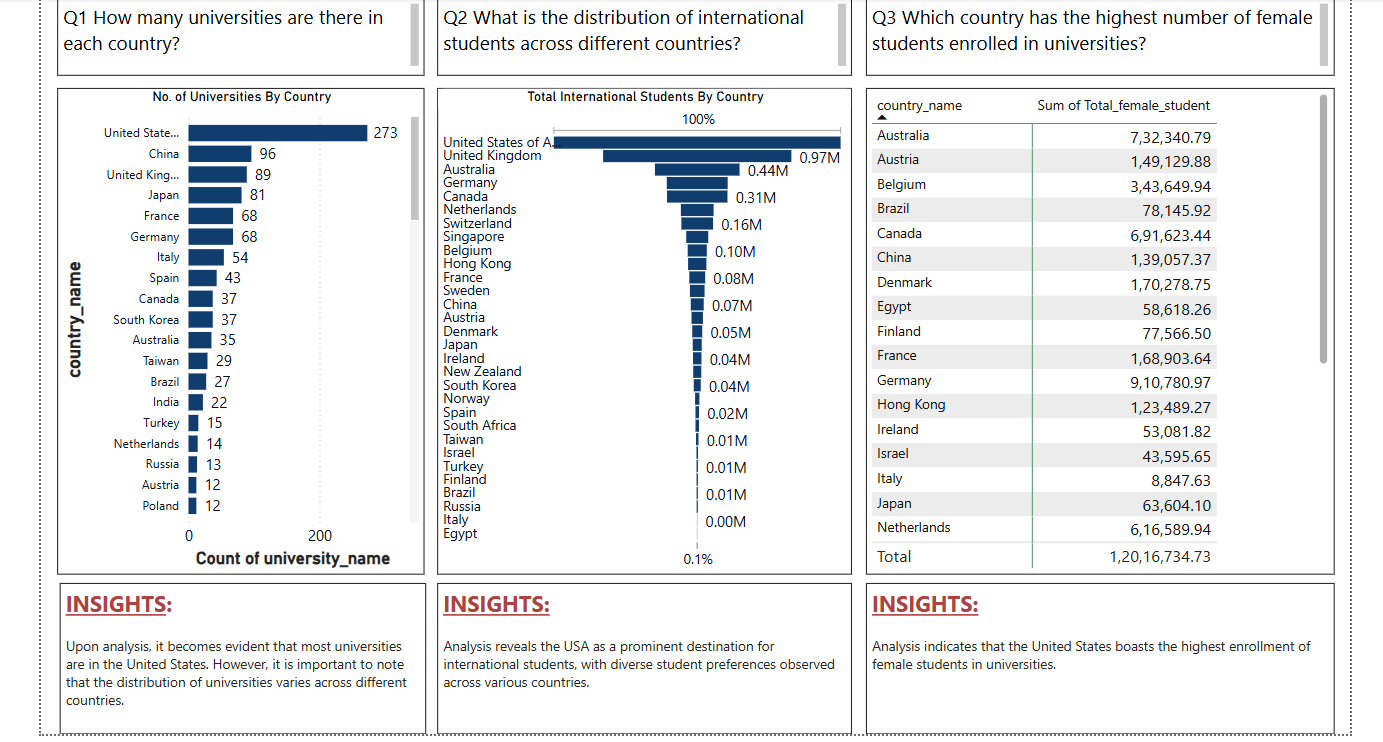

The page's visual inventory and layout, read from the dashboard file:
{"tool":"powerbi","page":{"name":"Que 1,2,3","canvas":[1280,720],"ordinal":4},"visuals":[{"type":"textbox","box":[15.9,0,359.5,75.8],"z":0},{"type":"textbox","box":[387.6,0,406,75.8],"z":1000},{"type":"textbox","box":[807.1,0,458.6,75.8],"z":2000},{"type":"clusteredBarChart","title":"No. of Universities By Country","fields":{"Category":["country.country_name"],"Y":["CountNonNull(university.university_name)"]},"box":[15.9,88,359.5,475.7],"z":3000},{"type":"funnel","title":"Total International Students By Country","fields":{"Category":["country.country_name"],"Y":["Sum(university_year.Total_Int_Student)"]},"box":[387.6,88,406,475.7],"z":4000},{"type":"pivotTable","fields":{"Rows":["country.country_name"],"Values":["Sum(university_year.Total_female_student)"]},"box":[807.1,88,458.6,475.7],"z":5000},{"type":"textbox","box":[18.3,572.3,358.3,148],"z":6000},{"type":"textbox","box":[387.6,572.3,406,148],"z":7000},{"type":"textbox","box":[807.1,572.3,458.6,148],"z":8000}]}

Visuals, with their boxes in screenshot pixels (x1, y1, x2, y2):
textbox: 59 0 425 73
textbox: 437 0 850 73
textbox: 863 0 1329 73
"No. of Universities By Country" clusteredBarChart: 59 86 425 569
"Total International Students By Country" funnel: 437 86 850 569
pivotTable - country.country_name x Sum(university_year.Total_female_student): 863 86 1329 569
textbox: 62 578 426 728
textbox: 437 578 850 728
textbox: 863 578 1329 728
